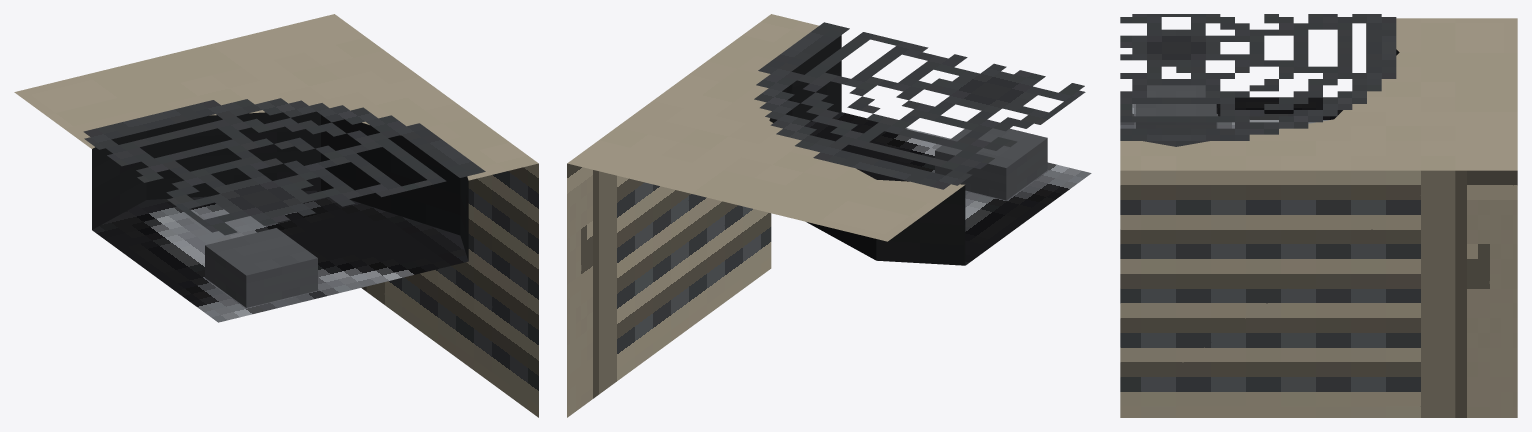
Rendered from rtu_large_x1_y1_z2.obj.
3 views of the same model, side by side, from view 1: azimuth 30°, elevation 25°; view 2: azimuth 150°, elevation 25°; view 3: azimuth 270°, elevation 25° (orthographic). The views are drawn at different scales.
Parts seen in each view (by area): view 1: unit; view 2: unit; view 3: unit.
Part boxes in pixels (box(x1,y1,x2,y2)): unit: box(14, 14, 538, 417); unit: box(567, 14, 1091, 417); unit: box(1120, 14, 1517, 417).
Bounding box in the file's own units: 0.9062 × 0.7 × 1.
